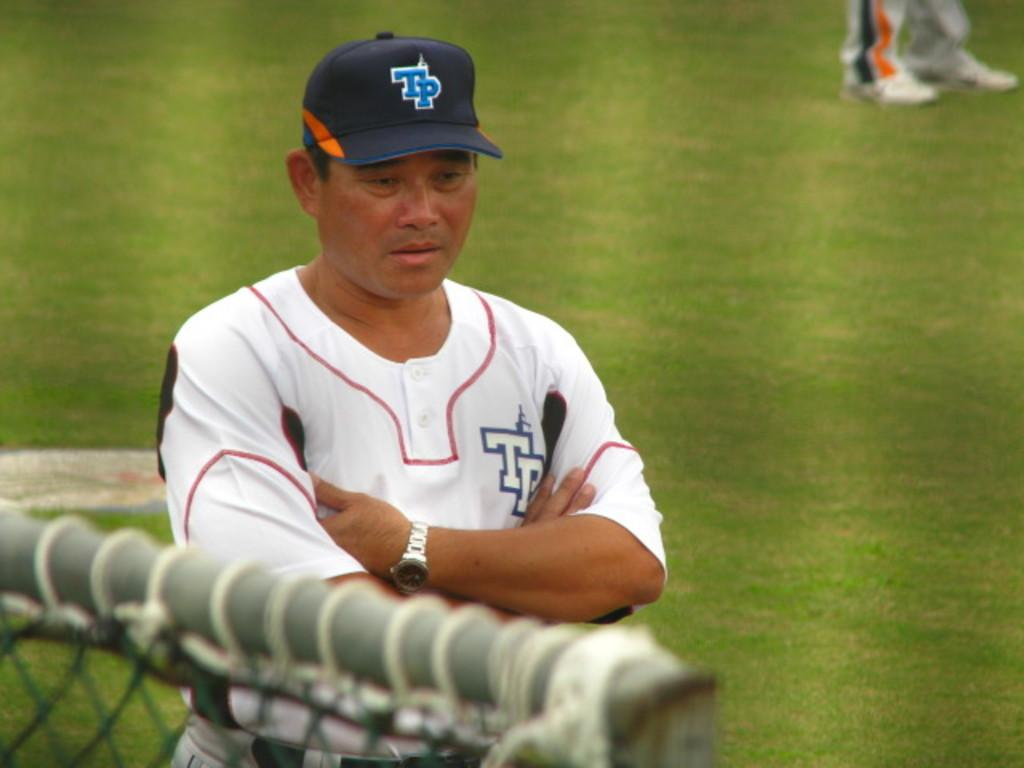Hat: (306, 31, 504, 167)
